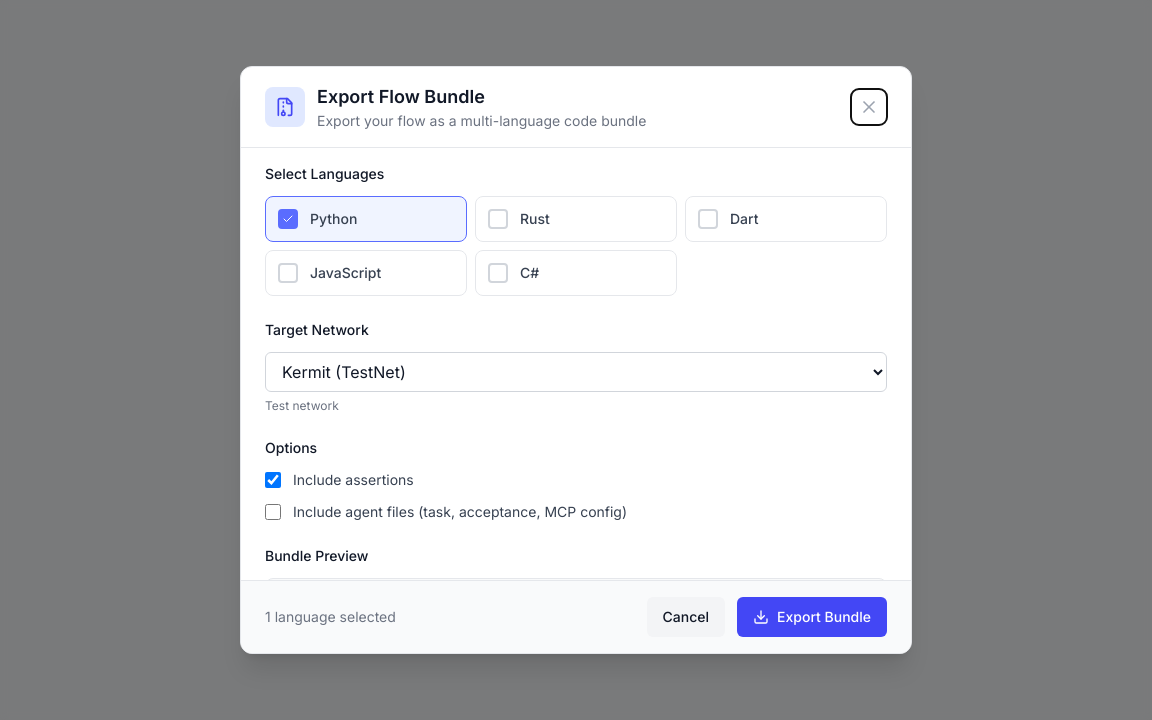
ExportModal › updates language count when toggling languages
# Python is already selected (1), click Rust to add it
Click the text "Rust": {"x": 535, "y": 219} [520, 209, 550, 229]
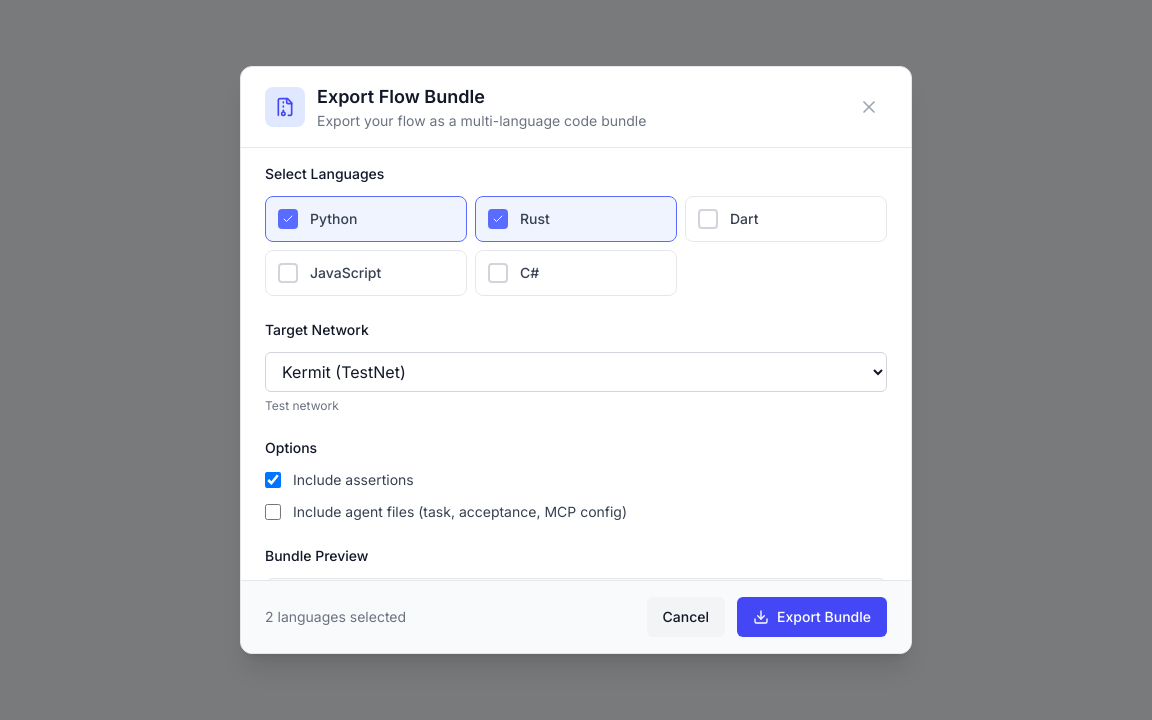
expect the text "2 languages selected" is shown: met, box [265, 607, 406, 627]
# Click Dart to add it
Click the text "Dart": {"x": 744, "y": 219} [730, 209, 758, 229]
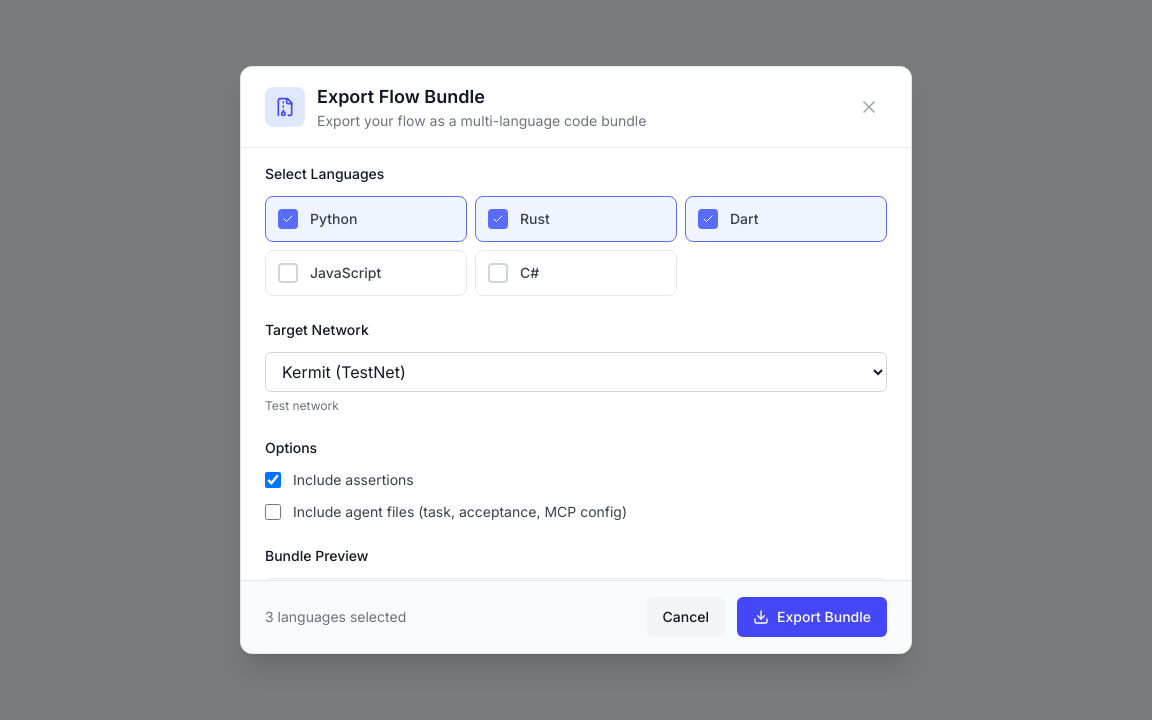
expect the text "3 languages selected" is shown: met, box [265, 607, 406, 627]
